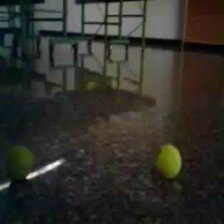tennis: (2, 145, 36, 181), (155, 143, 182, 180)
